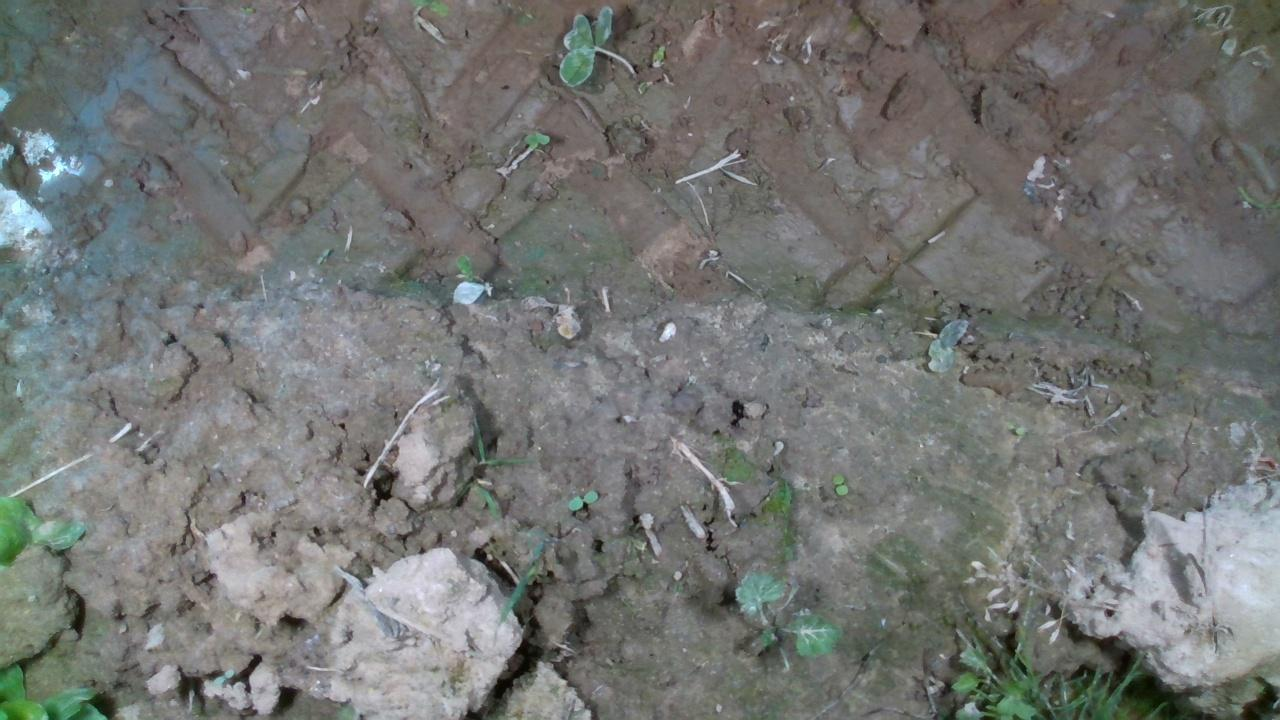weed: (566, 489, 598, 510), (830, 470, 847, 497)
